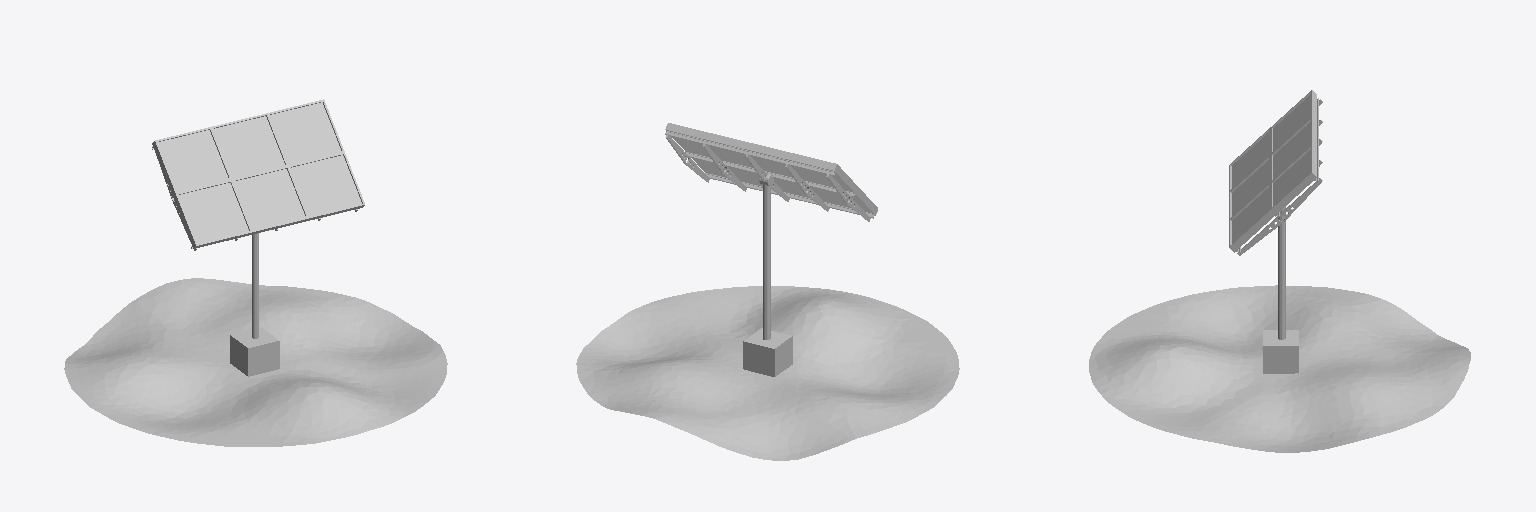
The model's file is Solarpanel.obj.
The picture shows the model from 3 angles: view 1: azimuth 30°, elevation 25°; view 2: azimuth 150°, elevation 25°; view 3: azimuth 270°, elevation 25°; orthographic projection.
Parts seen in each view (by area): view 1: Circle001, Panel, Box002, Cylinder002; view 2: Circle001, Panel, Box002, Cylinder002; view 3: Circle001, Panel, Box002, Cylinder002.
Boxes of the visible parts, box(x1,y1,x2,y2) form: Circle001: box(64, 278, 447, 446); Panel: box(152, 99, 364, 250); Box002: box(230, 327, 279, 376); Cylinder002: box(252, 233, 258, 338); Circle001: box(576, 286, 959, 460); Panel: box(665, 123, 877, 221); Box002: box(743, 328, 792, 376); Cylinder002: box(763, 185, 770, 339); Circle001: box(1089, 285, 1470, 452); Panel: box(1229, 90, 1322, 255); Box002: box(1263, 330, 1298, 373); Cylinder002: box(1278, 206, 1285, 339).
Bounding box in the file's own units: 984 × 703 × 980.